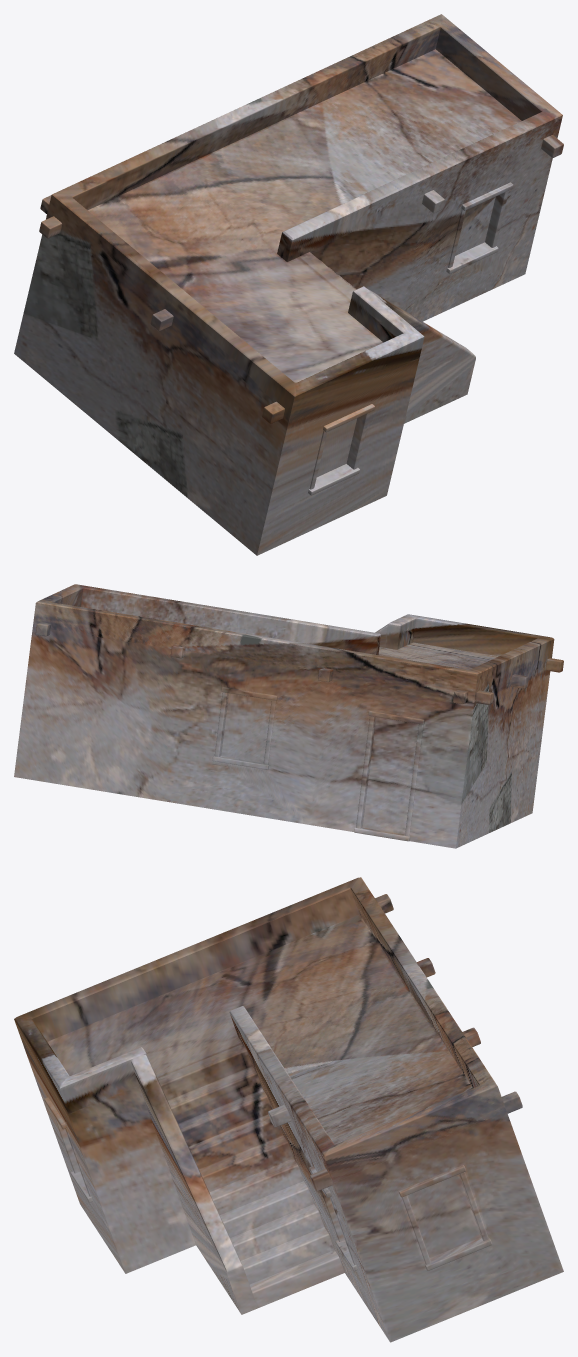
Rendered from House.fbx.
3 renders of one model, top to bottom at view 1: azimuth 30°, elevation 25°; view 2: azimuth 150°, elevation 25°; view 3: azimuth 270°, elevation 25°, orthographic. The views are drawn at different scales.
Parts seen in each view (by area): view 1: node_id4; view 2: node_id4; view 3: node_id4.
Part boxes in pixels (left/top/right/bottom): node_id4: left=14, top=14, right=563, bottom=555; node_id4: left=14, top=584, right=563, bottom=848; node_id4: left=14, top=877, right=563, bottom=1342.
Bounding box in the file's own units: 0.531 × 0.3021 × 0.479.
Materials: 1 (1 with a texture image).
